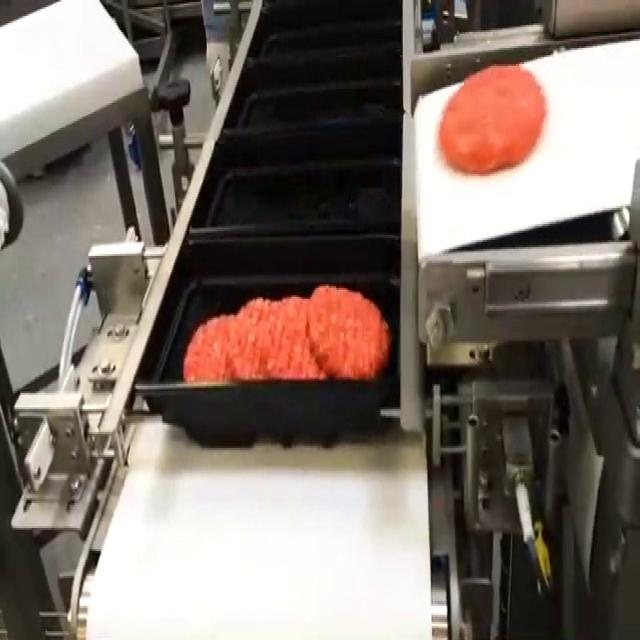4-hamburguer: (183, 288, 389, 379)
hamburguer: (439, 68, 548, 178)
